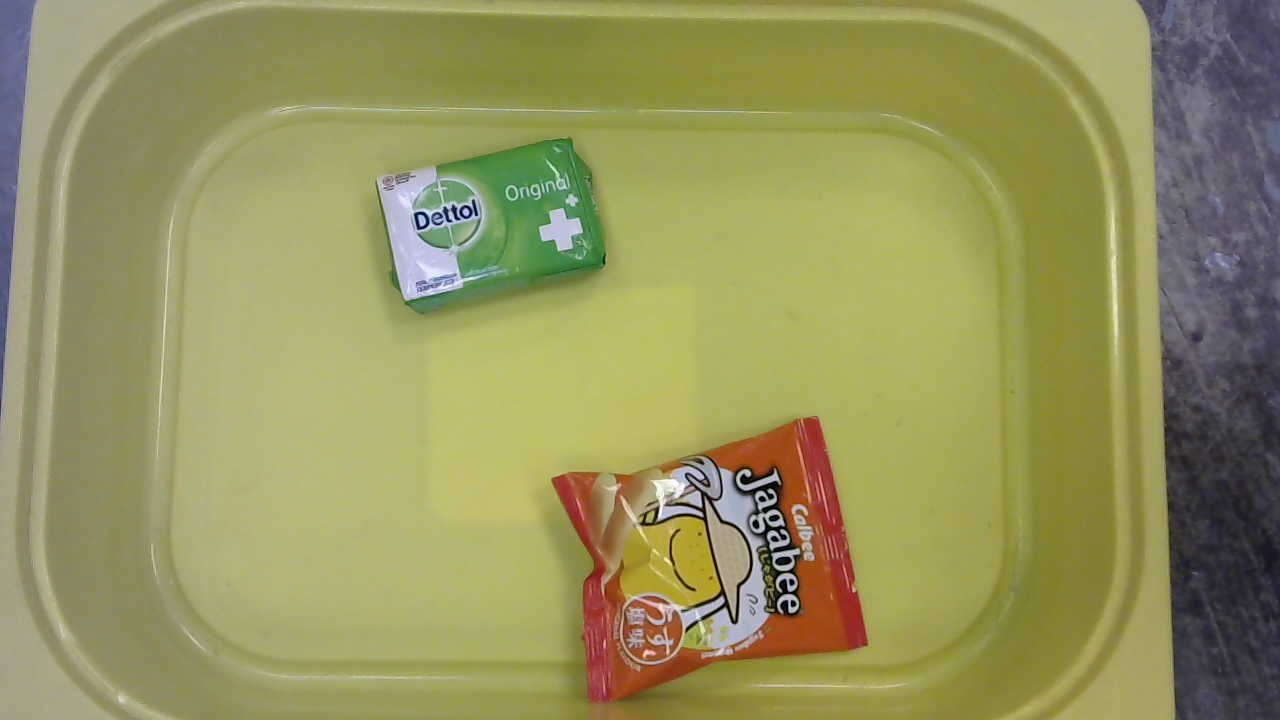Dettol: (373, 136, 613, 315)
JagabeeFarmer: (546, 413, 874, 707)
